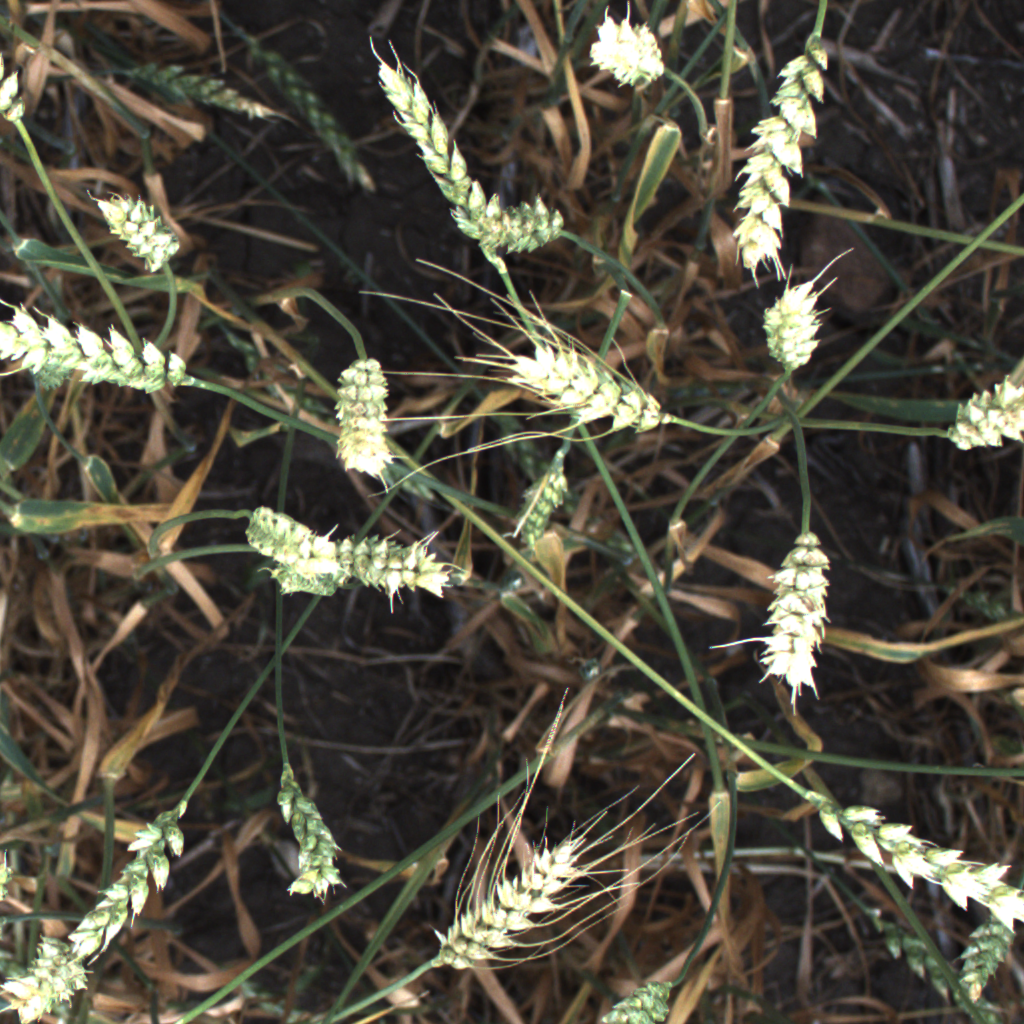wheat_head: (693, 27, 840, 292), (362, 64, 515, 280), (413, 811, 601, 982), (802, 786, 1022, 925), (54, 799, 202, 971), (491, 319, 677, 439), (737, 508, 844, 716), (0, 304, 195, 416), (312, 349, 410, 490), (263, 748, 348, 908), (338, 523, 482, 615), (747, 269, 847, 382), (447, 180, 574, 268), (223, 497, 345, 581), (568, 8, 677, 102), (936, 358, 1024, 471), (0, 923, 98, 1024), (84, 185, 182, 279), (948, 894, 1019, 1008), (505, 448, 581, 547), (249, 556, 339, 610), (584, 981, 695, 1024), (0, 29, 34, 133)
